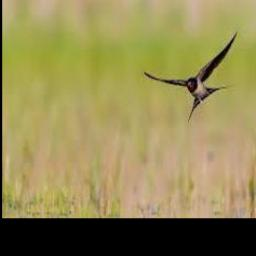Swallow: (143, 32, 237, 118)
